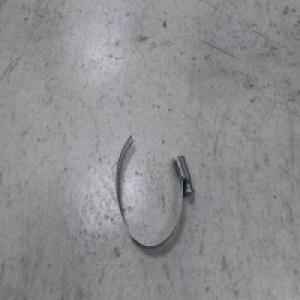AdjustableClamp: (115, 133, 193, 248)
